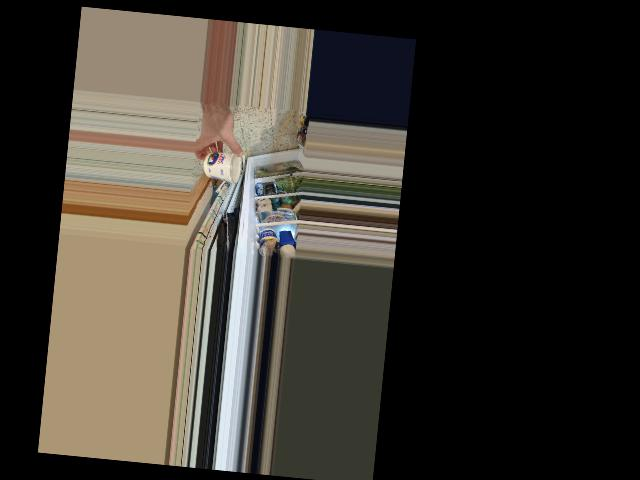cotage: (199, 150, 240, 184)
